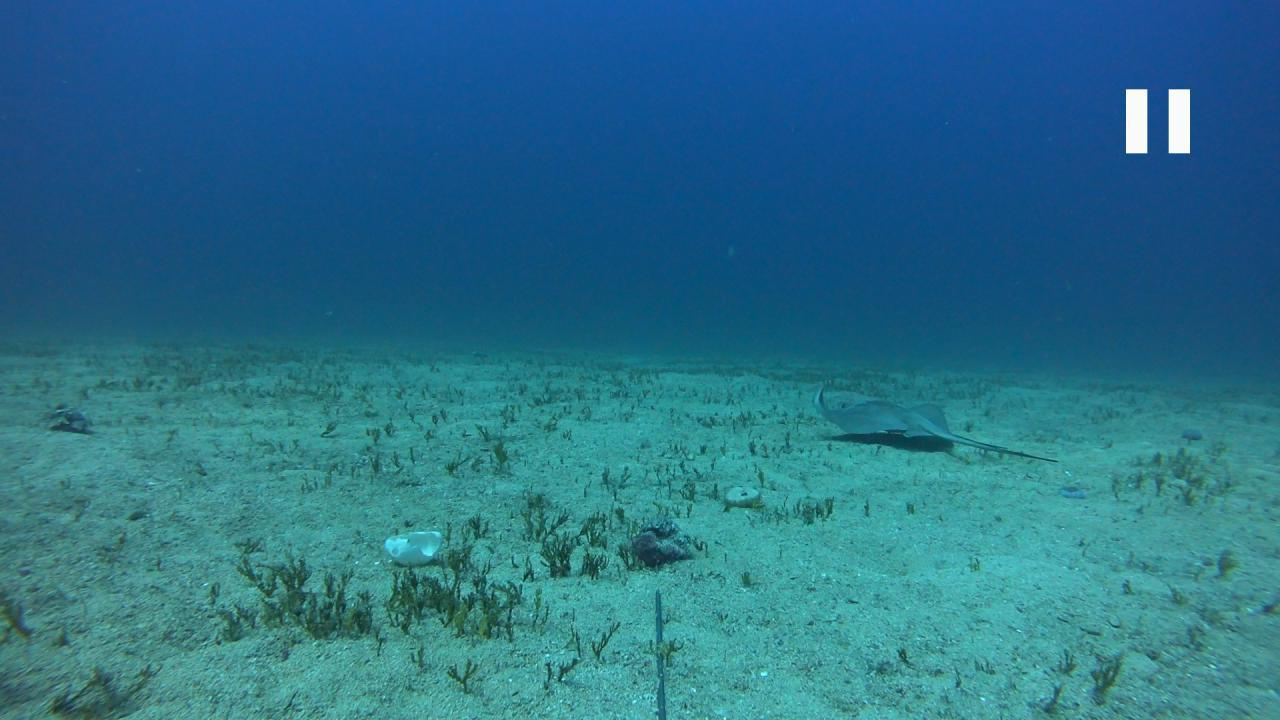dasyatis: (810, 386, 1060, 462)
